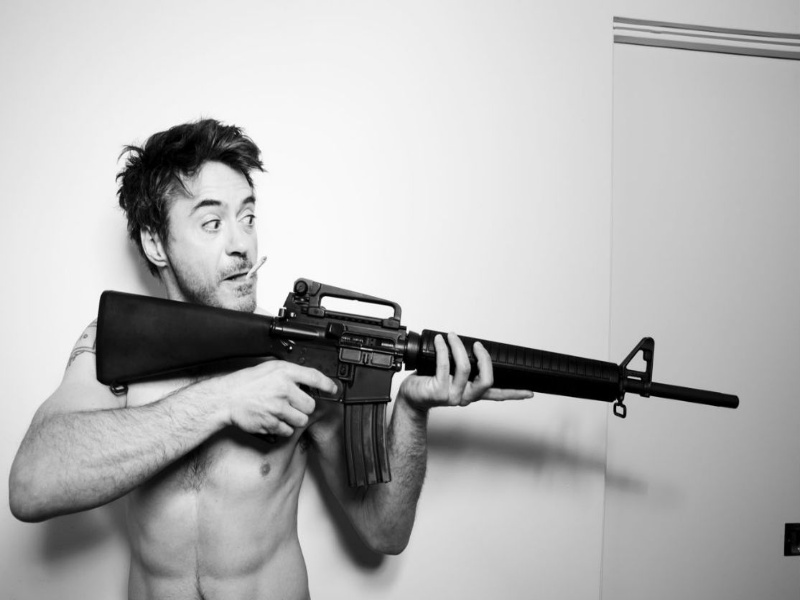person: (9, 120, 534, 600)
weapon: (96, 277, 739, 487)
